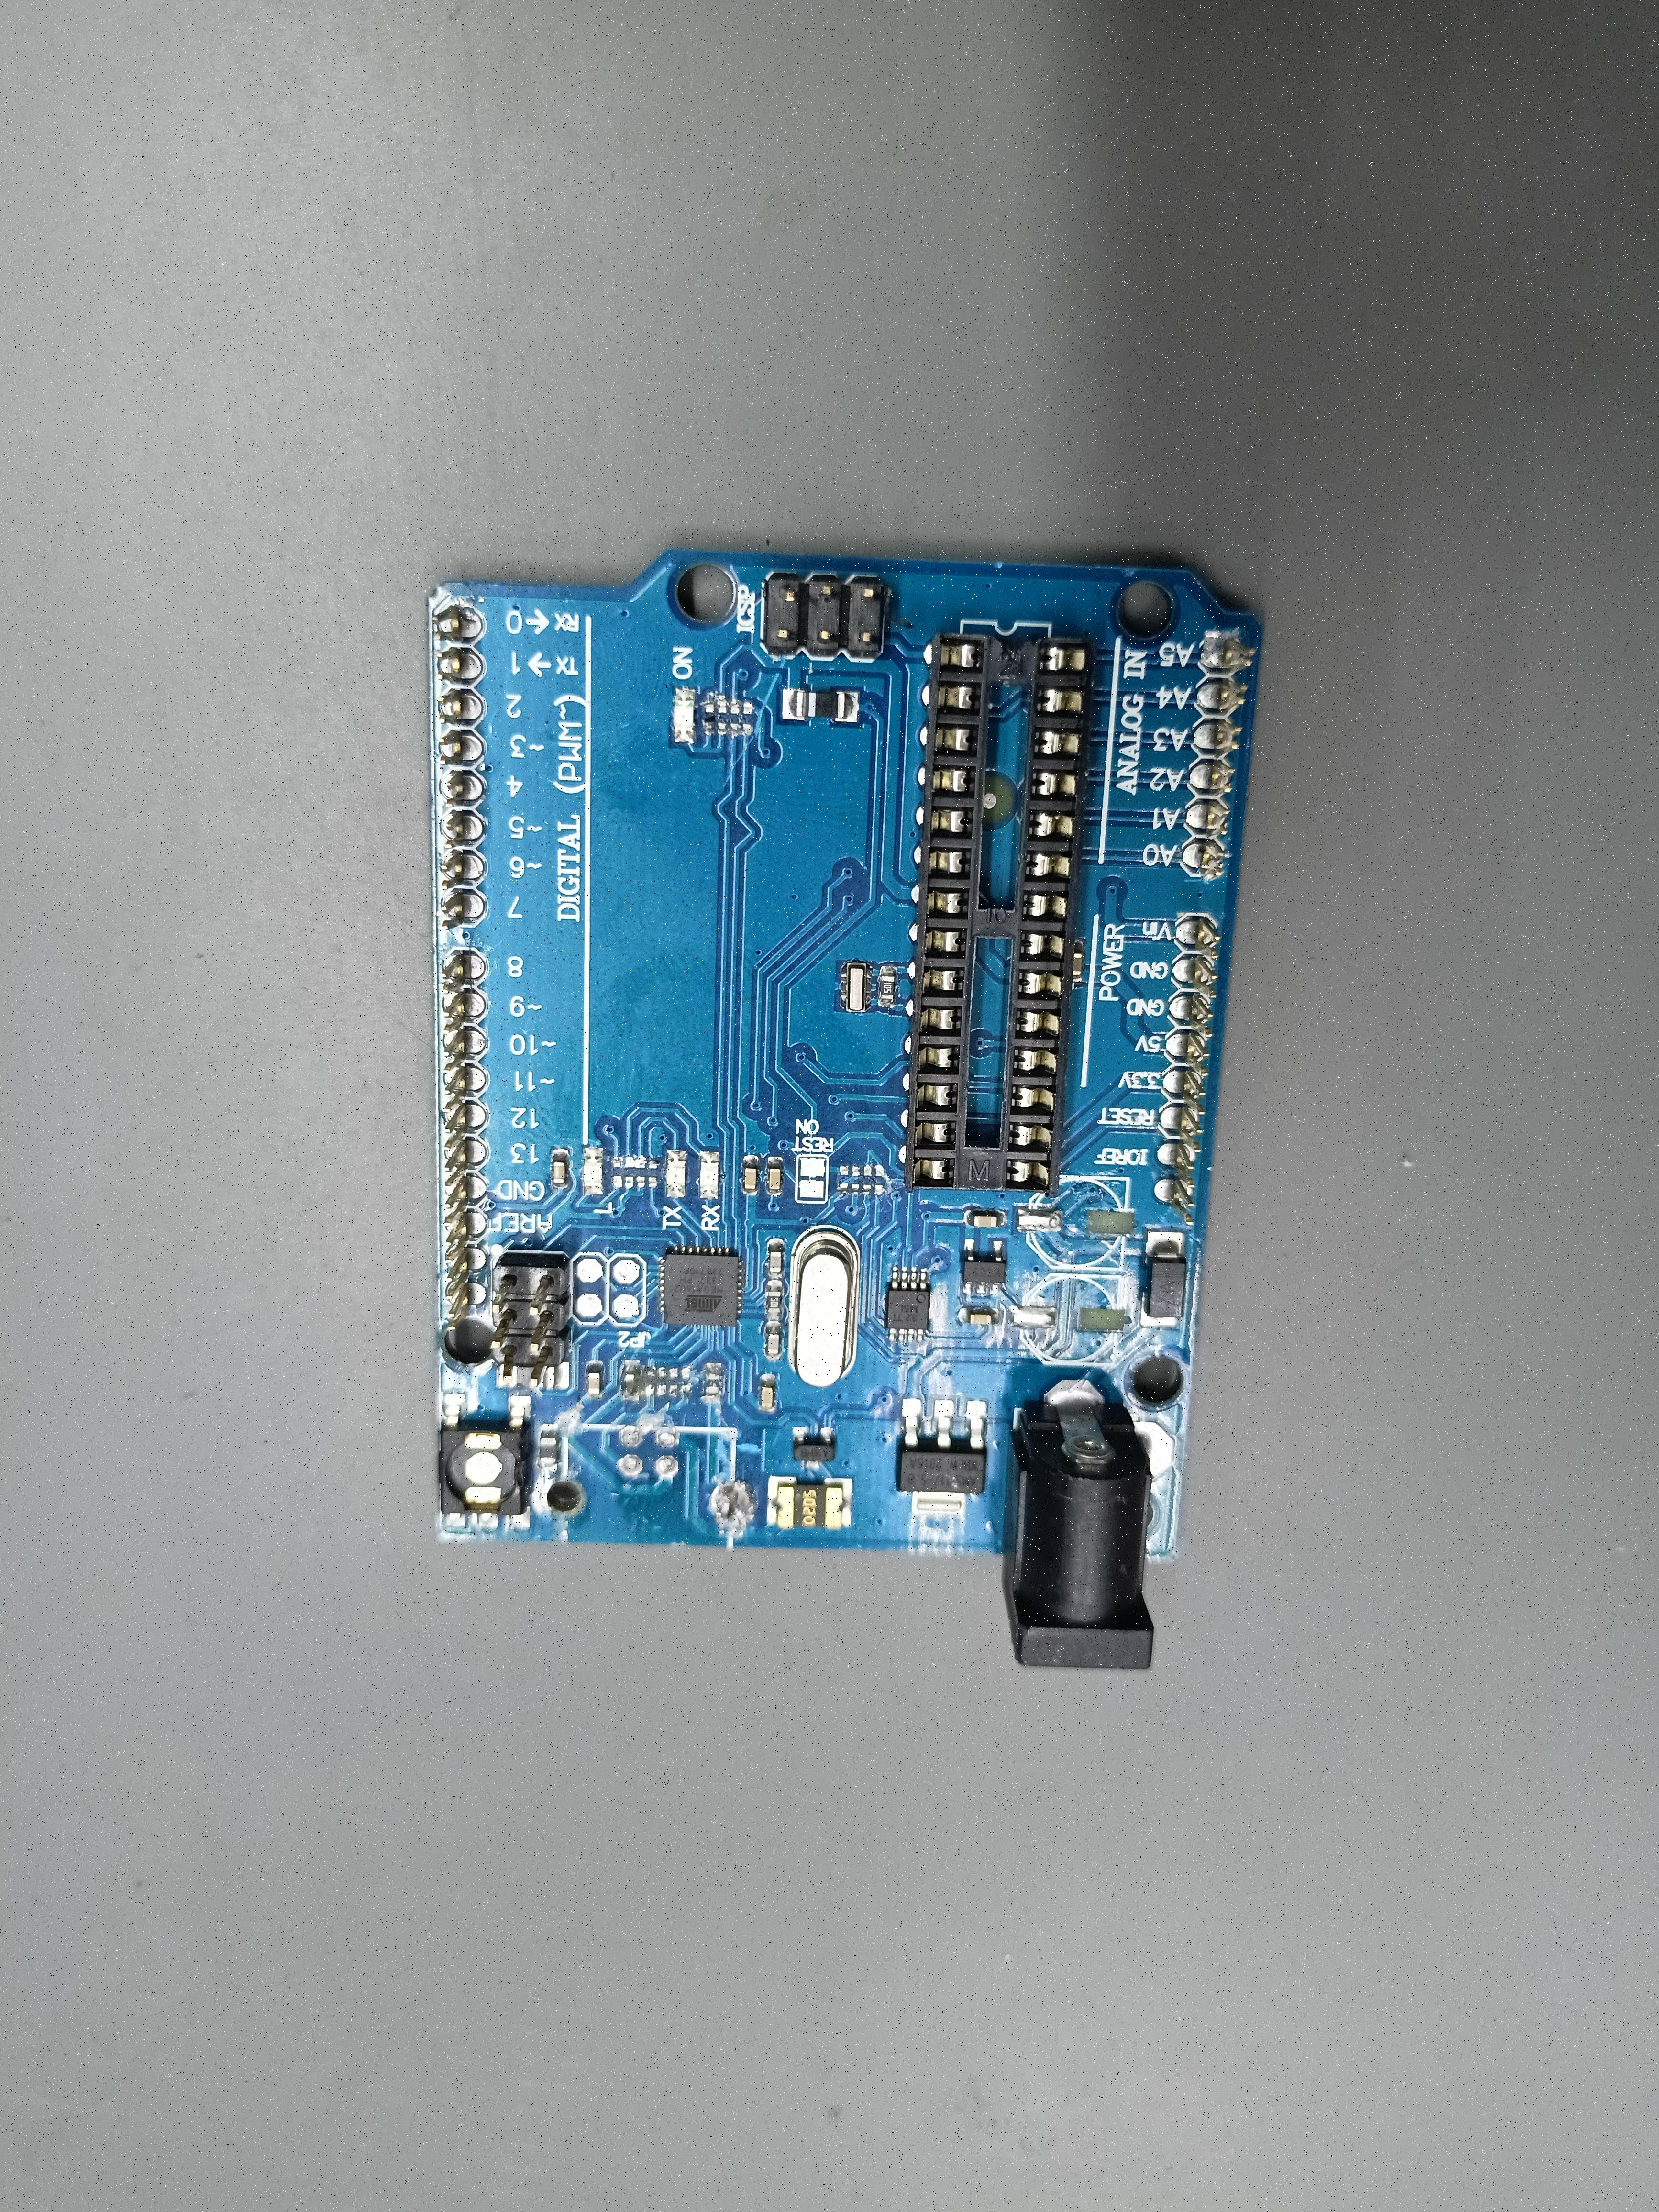Arduino board: (427, 549, 1265, 1670)
